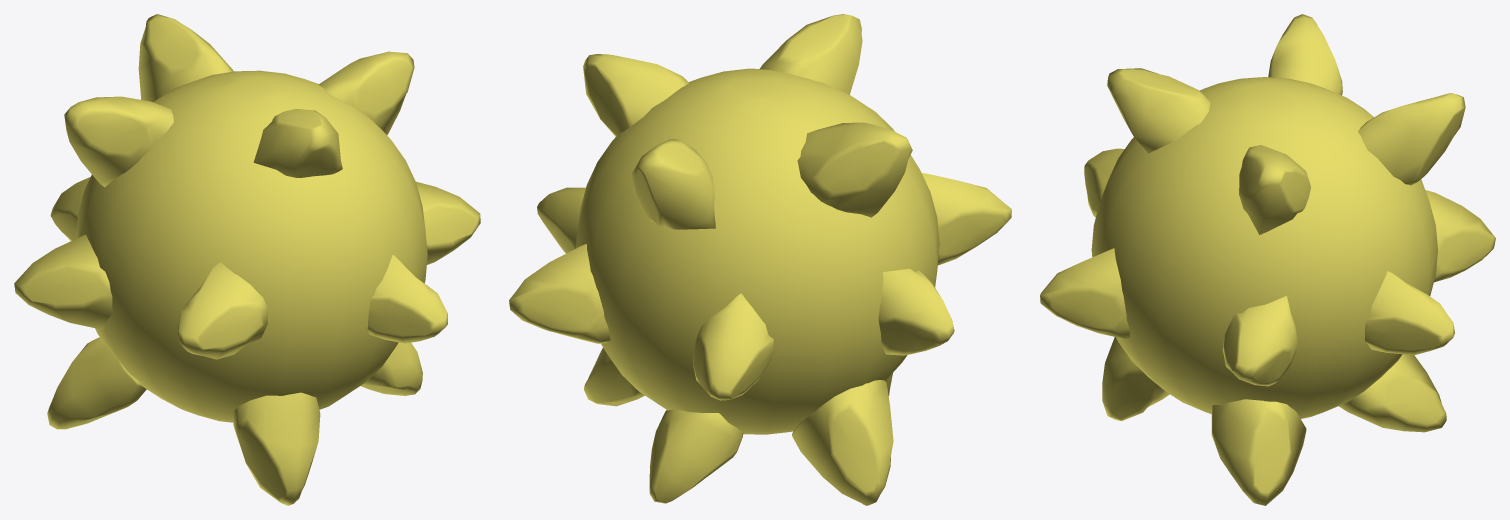
Rendered from JOJO Ball form.fbx.
3 renders of one model, left to right at view 1: azimuth 30°, elevation 25°; view 2: azimuth 150°, elevation 25°; view 3: azimuth 270°, elevation 25°, orthographic. The views are drawn at different scales.
Visible parts, largest first — view 1: JOJO1, JOJO_SPIKE_8, JOJO_SPIKE_1, JOJO_SPIKE_2, JOJO_SPIKE_5, JOJO_SPIKE_4, JOJO_SPIKE_6, JOJO_SPIKE_7, JOJO_SPIKE_14, JOJO_SPIKE_10, JOJO_SPIKE_11, JOJO_SPIKE_13 (+1 smaller); view 2: JOJO1, JOJO_SPIKE_4, JOJO_SPIKE_1, JOJO_SPIKE_12, JOJO_SPIKE_9, JOJO_SPIKE_6, JOJO_SPIKE_3, JOJO_SPIKE_10, JOJO_SPIKE_2, JOJO_SPIKE_7, JOJO_SPIKE_5, JOJO_SPIKE_11 (+1 smaller); view 3: JOJO1, JOJO_SPIKE_13, JOJO_SPIKE_6, JOJO_SPIKE_7, JOJO_SPIKE_14, JOJO_SPIKE_12, JOJO_SPIKE_11, JOJO_SPIKE_9, JOJO_SPIKE_10, JOJO_SPIKE_3, JOJO_SPIKE_1, JOJO_SPIKE_8 (+1 smaller).
Boxes of the visible parts, <box> form: JOJO1: <box>76,70,427,422</box>; JOJO_SPIKE_8: <box>233,392,320,505</box>; JOJO_SPIKE_1: <box>64,96,173,187</box>; JOJO_SPIKE_2: <box>14,234,112,329</box>; JOJO_SPIKE_5: <box>177,262,267,359</box>; JOJO_SPIKE_4: <box>47,337,146,429</box>; JOJO_SPIKE_6: <box>138,14,233,101</box>; JOJO_SPIKE_7: <box>253,109,342,177</box>; JOJO_SPIKE_14: <box>367,255,447,343</box>; JOJO_SPIKE_10: <box>318,51,414,135</box>; JOJO_SPIKE_11: <box>416,181,480,264</box>; JOJO_SPIKE_13: <box>360,342,422,395</box>; JOJO1: <box>576,68,939,434</box>; JOJO_SPIKE_4: <box>792,380,893,505</box>; JOJO_SPIKE_1: <box>797,122,912,217</box>; JOJO_SPIKE_12: <box>509,244,610,343</box>; JOJO_SPIKE_9: <box>649,409,743,503</box>; JOJO_SPIKE_6: <box>632,138,715,229</box>; JOJO_SPIKE_3: <box>693,293,773,400</box>; JOJO_SPIKE_10: <box>583,54,688,136</box>; JOJO_SPIKE_2: <box>878,268,954,355</box>; JOJO_SPIKE_7: <box>760,14,862,94</box>; JOJO_SPIKE_5: <box>921,173,1011,265</box>; JOJO_SPIKE_11: <box>537,187,585,253</box>; JOJO1: <box>1091,77,1437,418</box>; JOJO_SPIKE_13: <box>1211,399,1306,505</box>; JOJO_SPIKE_6: <box>1358,93,1465,185</box>; JOJO_SPIKE_7: <box>1107,68,1210,153</box>; JOJO_SPIKE_14: <box>1040,248,1130,338</box>; JOJO_SPIKE_12: <box>1365,271,1454,355</box>; JOJO_SPIKE_11: <box>1222,295,1297,386</box>; JOJO_SPIKE_9: <box>1338,354,1446,432</box>; JOJO_SPIKE_10: <box>1239,145,1310,234</box>; JOJO_SPIKE_3: <box>1425,190,1495,282</box>; JOJO_SPIKE_1: <box>1268,14,1342,95</box>; JOJO_SPIKE_8: <box>1102,337,1169,420</box>.
Size of the model in its own units: 2.22 by 1.82 by 2.08.
